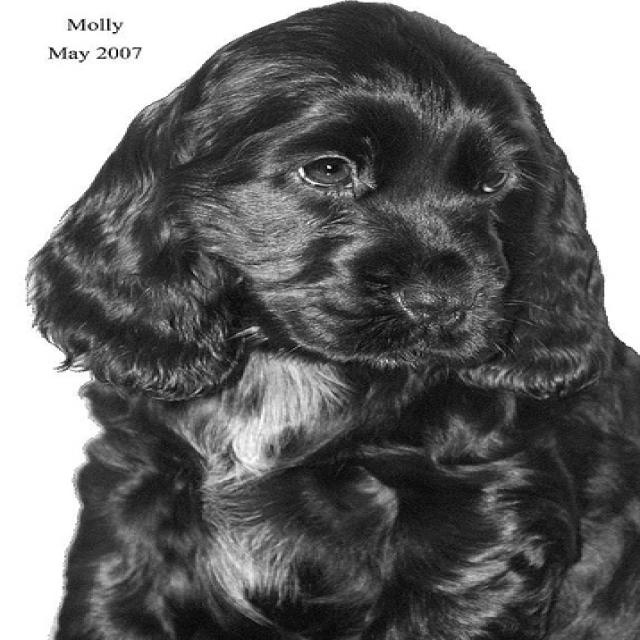dog: (29, 0, 608, 398)
